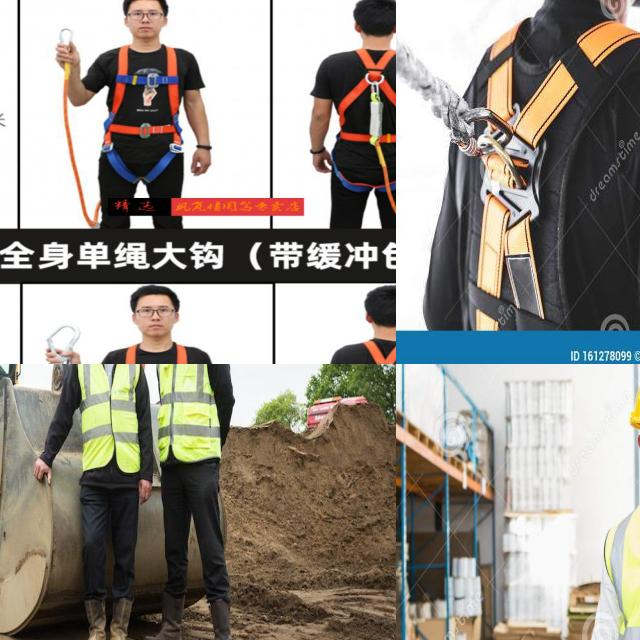Harness: (477, 20, 640, 320), (105, 34, 191, 189), (323, 48, 396, 204)
hand_noglove: (26, 450, 55, 488), (136, 472, 156, 510)
person: (35, 364, 153, 640), (145, 364, 238, 640), (568, 364, 640, 640)
shoes: (145, 588, 184, 640), (77, 593, 108, 640), (205, 596, 237, 640), (107, 597, 133, 640)
vest: (75, 364, 144, 478), (153, 364, 222, 455)
